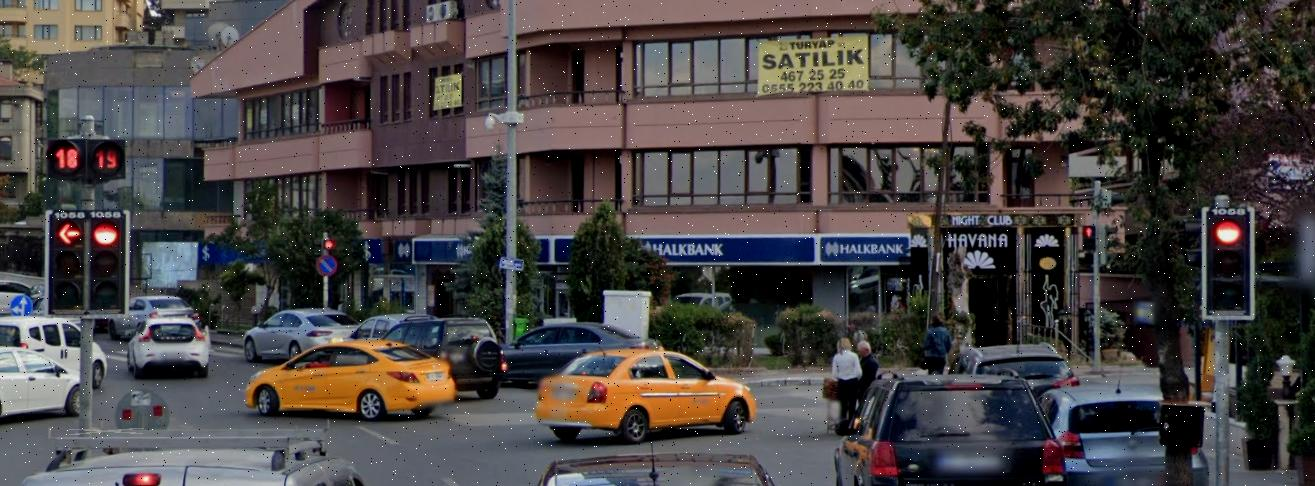redlight: (85, 210, 125, 312)
